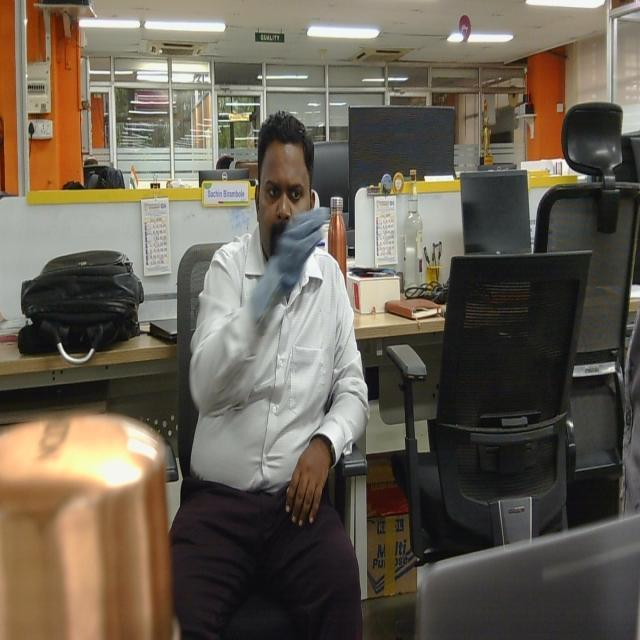Gloves-Detection: (250, 210, 340, 324)
